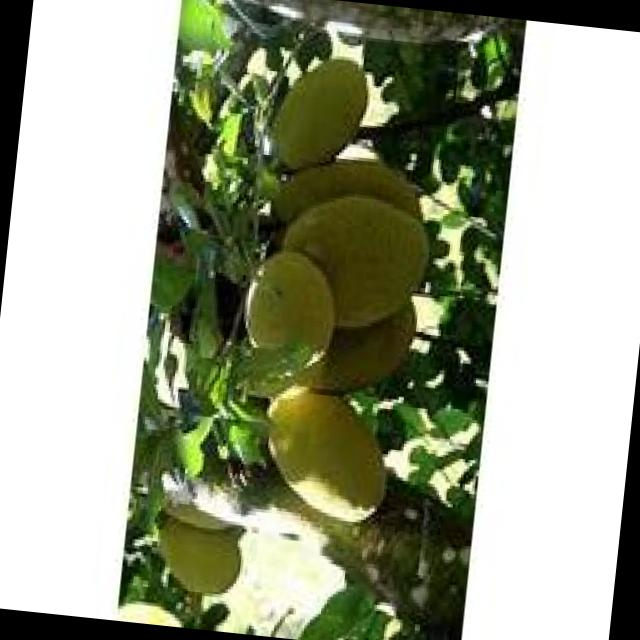Fruit: (221, 94, 464, 422), (236, 372, 414, 550), (253, 36, 389, 184)
